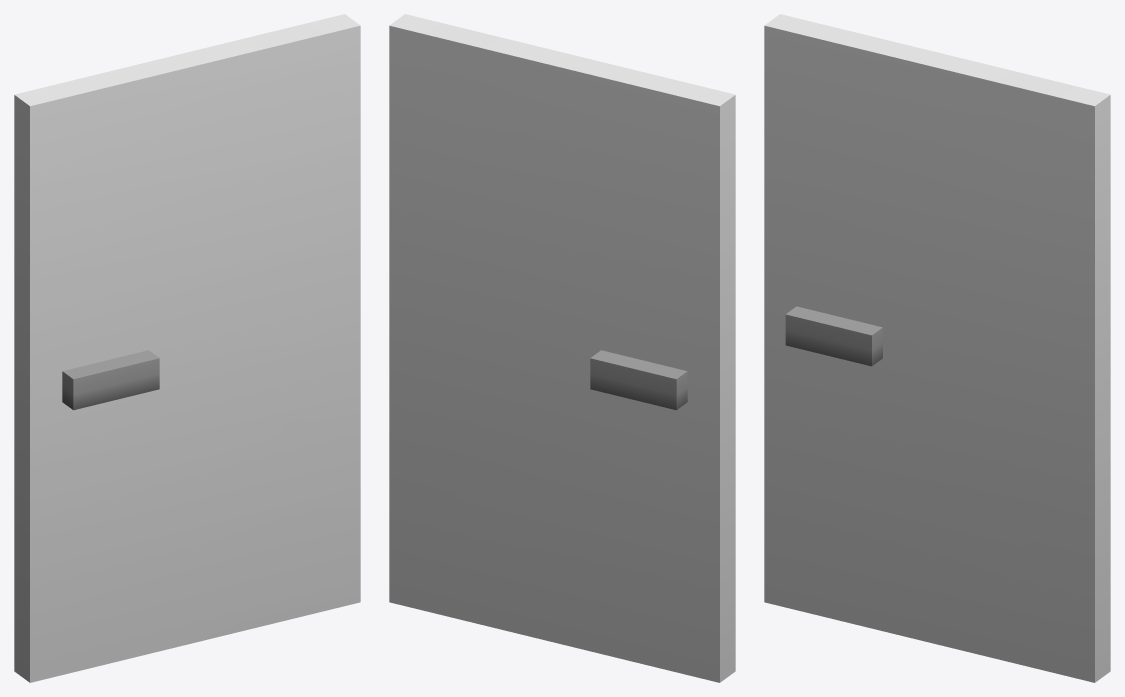
The model's file is Door_white.fbx.
The picture shows the model from 3 angles, left to right: view 1: azimuth 30°, elevation 25°; view 2: azimuth 150°, elevation 25°; view 3: azimuth 330°, elevation 25°; orthographic projection.
Parts seen in each view (by area): view 1: Door.white, Door_Knob.white; view 2: Door.white, Door_Knob.white; view 3: Door.white, Door_Knob.white.
Part boxes in pixels (x1,y1,x2,y2): Door.white: (14,14,360,682); Door_Knob.white: (62,350,159,410); Door.white: (389,14,735,682); Door_Knob.white: (590,350,687,410); Door.white: (764,14,1110,682); Door_Knob.white: (785,306,882,366).
Bounding box in the file's own units: 150 × 250 × 29.79.
